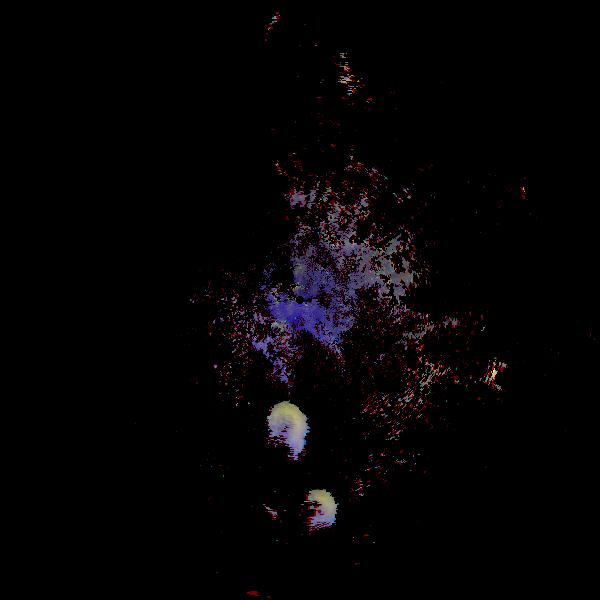roost: (264, 403, 309, 448), (302, 489, 338, 525), (273, 429, 306, 462), (256, 505, 280, 529)
